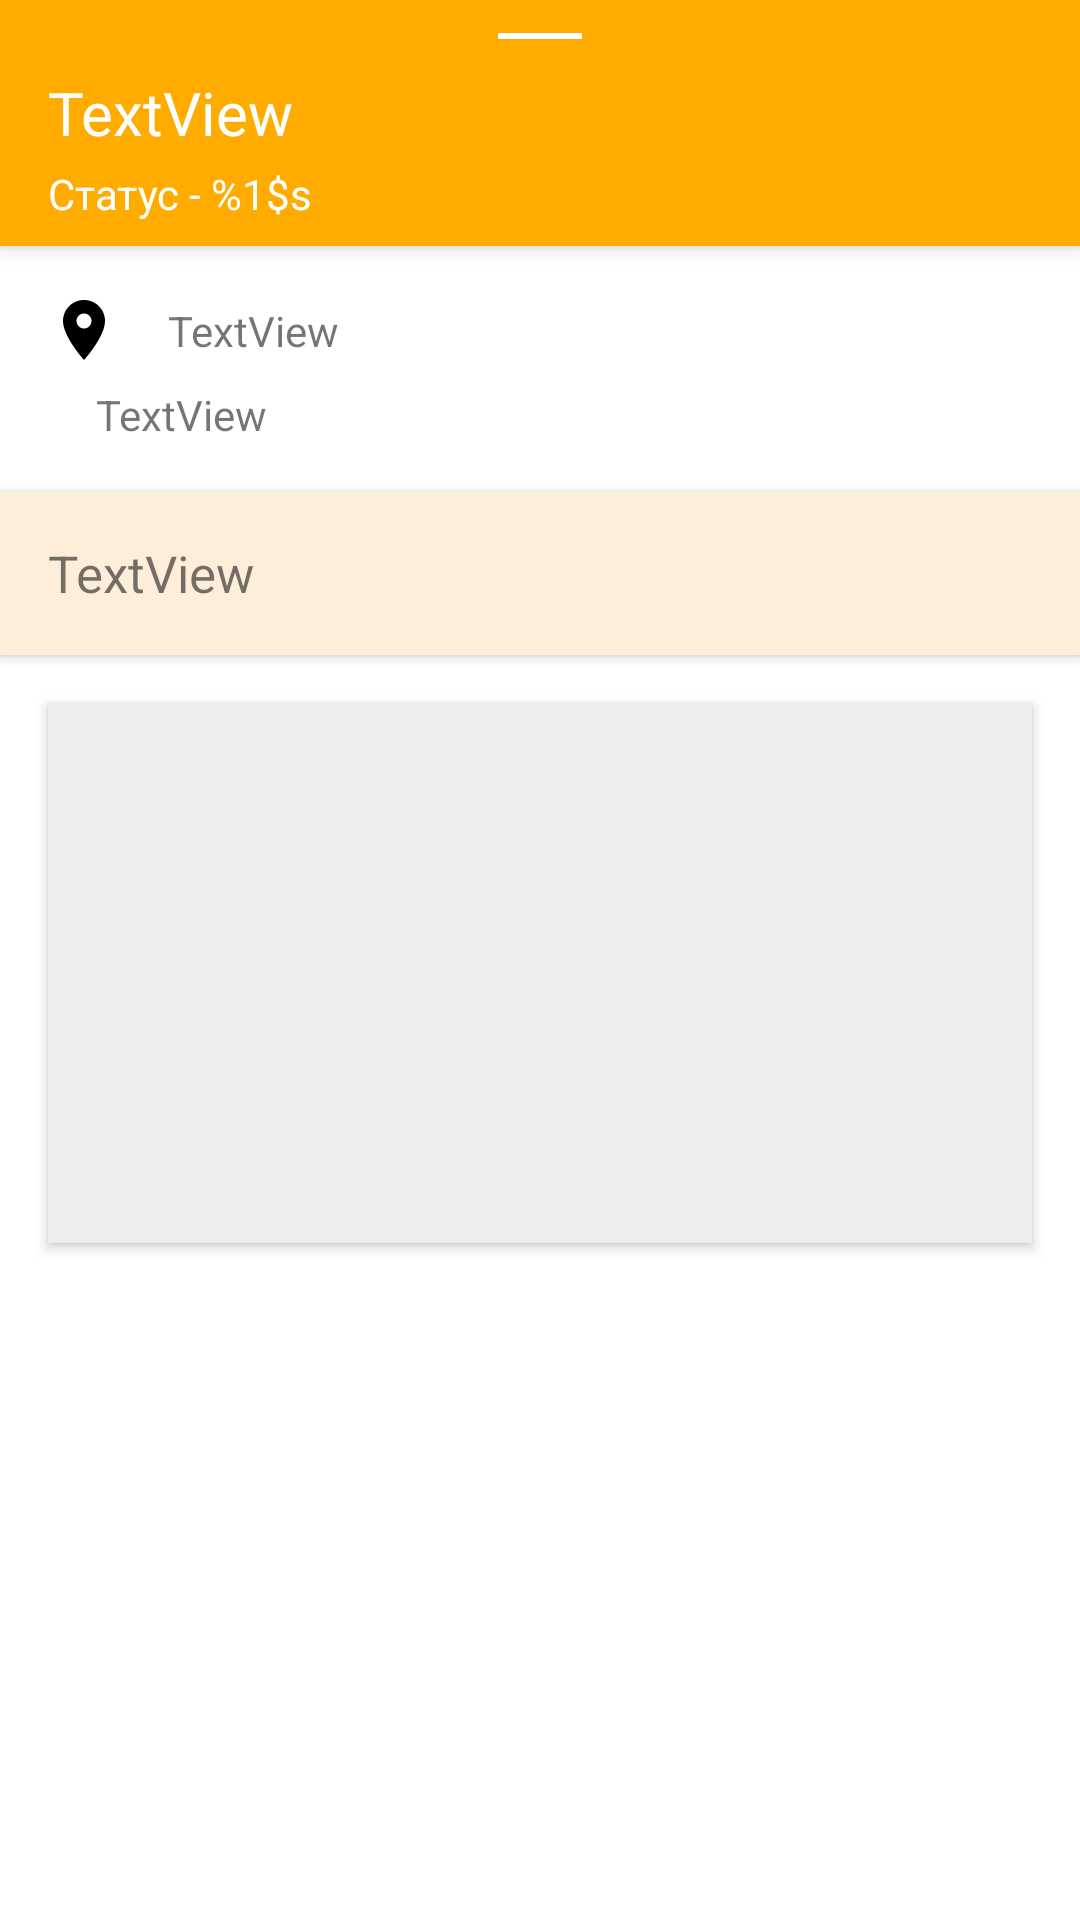

Icon click points for this 1080 × 1920 phone screenshot, format (x,y):
location on: (84,330)
